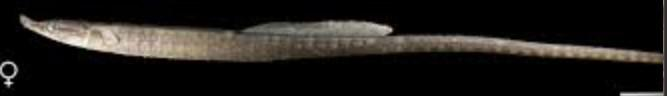Long-Snouted Pipefish: (12, 18, 655, 70)
